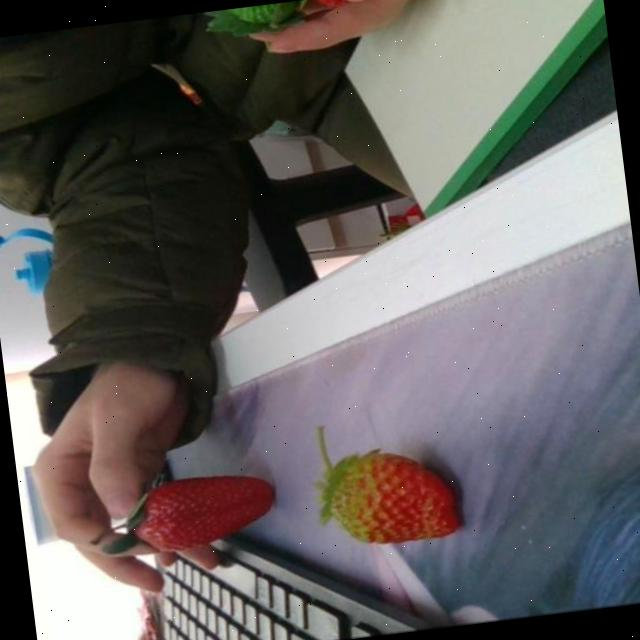strawberry: (328, 439, 464, 554), (124, 466, 282, 558)
